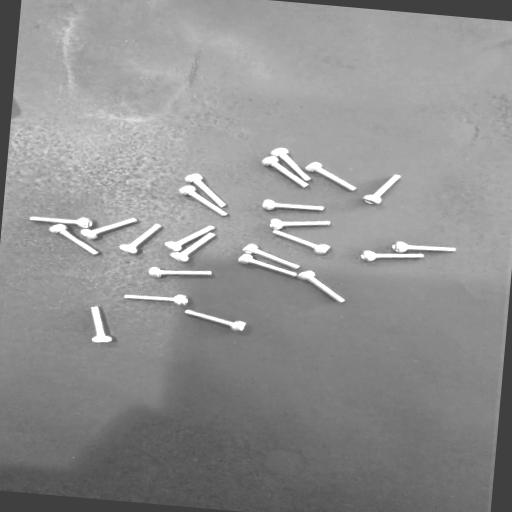Bolt: (50, 224, 100, 255), (179, 185, 228, 216), (297, 271, 345, 302), (262, 156, 308, 188), (306, 163, 356, 191), (243, 244, 299, 269), (185, 174, 226, 207), (273, 231, 330, 254), (238, 254, 297, 276), (119, 224, 162, 254), (171, 233, 215, 262), (185, 310, 245, 331), (165, 226, 215, 251), (271, 149, 310, 181), (81, 218, 138, 239), (362, 175, 400, 204), (91, 306, 112, 342), (392, 241, 455, 253), (360, 251, 424, 262), (29, 217, 92, 228), (262, 200, 324, 211), (149, 267, 211, 278), (124, 295, 189, 305), (270, 219, 330, 229)
